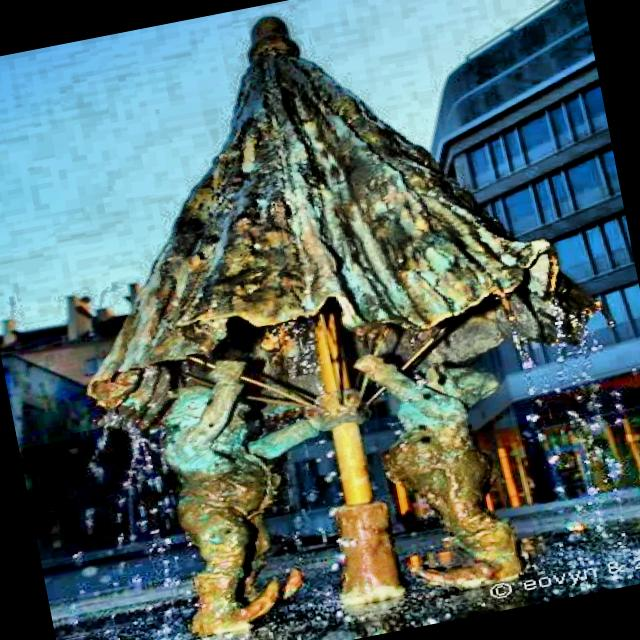Parasolniki: (87, 19, 601, 638)
